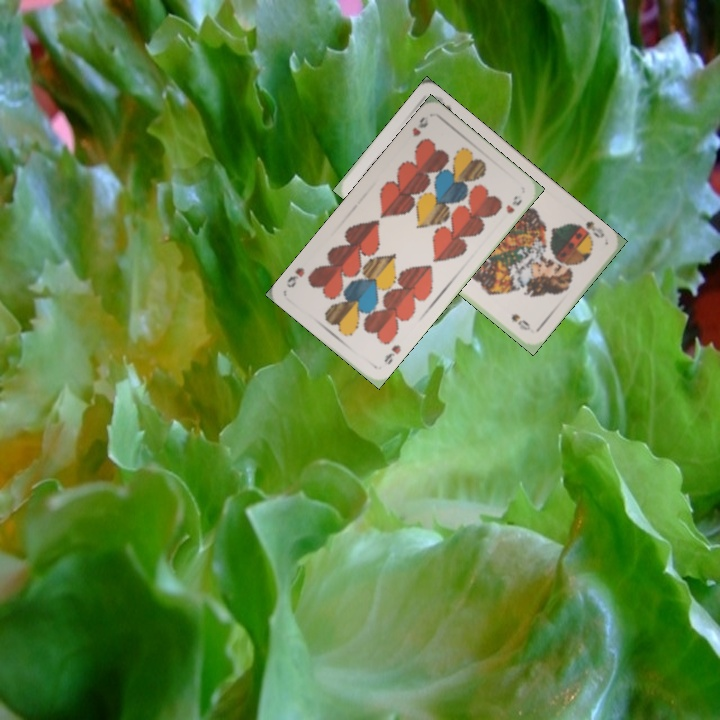H9: (380, 341, 404, 367), (408, 112, 431, 139)
SO: (570, 217, 607, 241)
